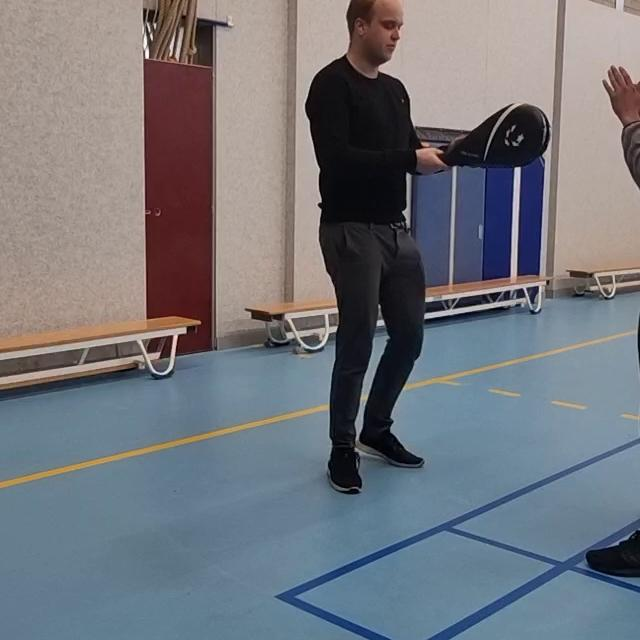paddle: (444, 101, 553, 174)
